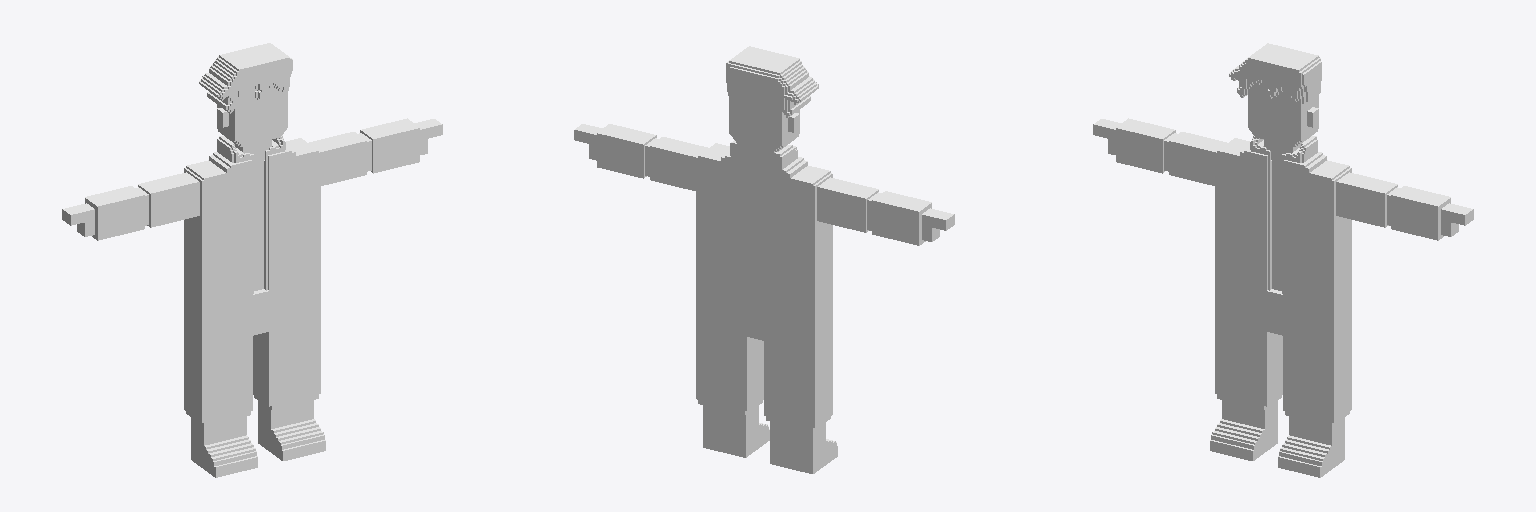
The model's file is étudiant.obj.
3 renders of one model, left to right at view 1: azimuth 30°, elevation 25°; view 2: azimuth 150°, elevation 25°; view 3: azimuth 330°, elevation 25°, orthographic.
Parts seen in each view (by area): view 1: object 1; view 2: object 1; view 3: object 1.
Boxes of the visible parts, x1=… form: object 1: x1=62, y1=43, x2=442, y2=477; object 1: x1=574, y1=46, x2=954, y2=473; object 1: x1=1093, y1=43, x2=1473, y2=477.
Size of the model in its own units: 18.2 by 18.5 by 2.5.